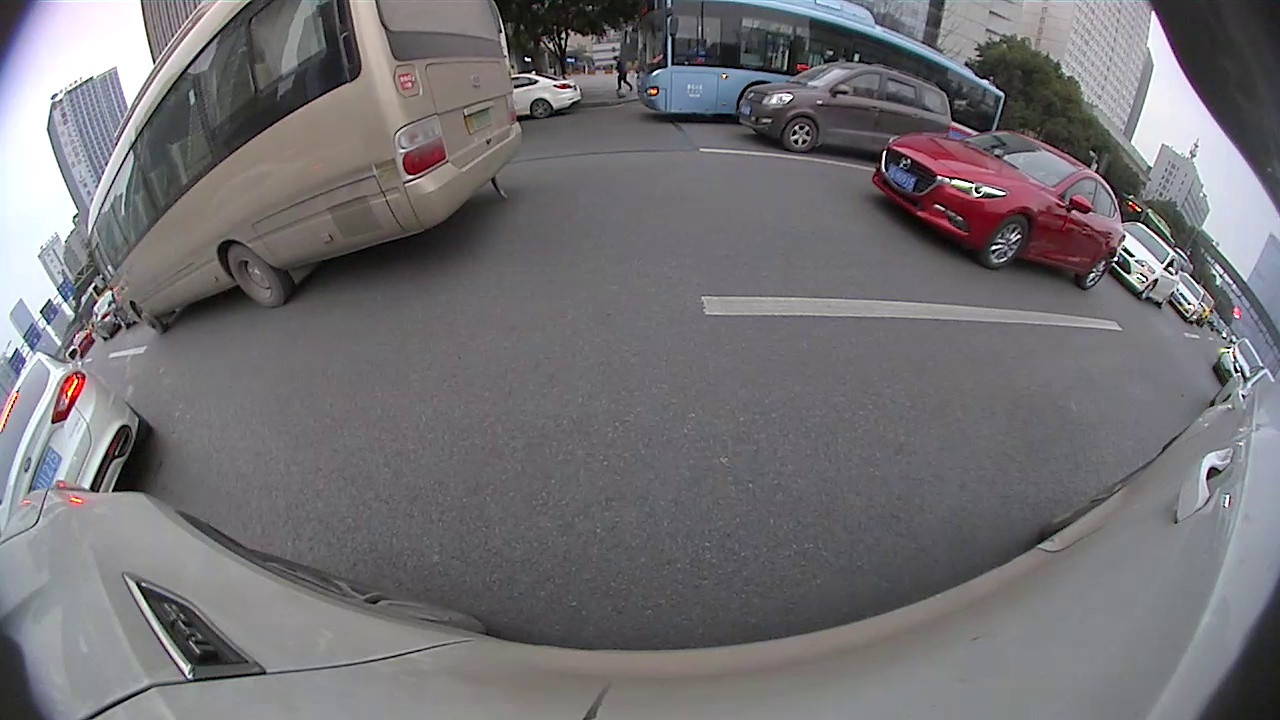bus: (84, 1, 523, 333), (643, 1, 1000, 136)
car: (872, 133, 1123, 288), (1, 348, 153, 507), (740, 64, 951, 151), (1110, 224, 1179, 308), (508, 74, 583, 119)
front: (984, 215, 1034, 270), (786, 115, 819, 152), (134, 302, 168, 335), (1140, 280, 1156, 302)
rear: (226, 242, 291, 310), (1084, 254, 1111, 288), (531, 98, 552, 119)
